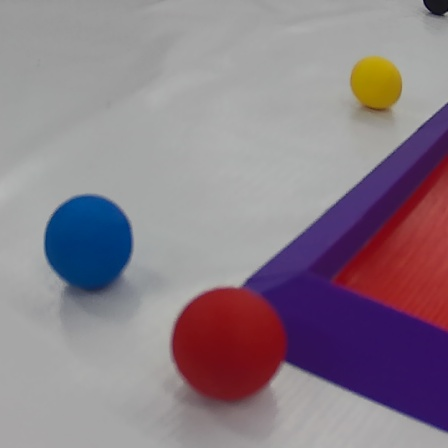blue: (42, 192, 138, 295)
red: (164, 285, 294, 407)
red_aim: (232, 96, 448, 438)
yellow: (348, 53, 406, 110)
